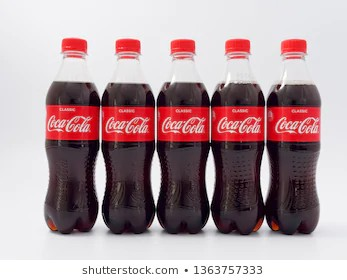coke-bottle-700ml: (42, 35, 102, 236), (266, 36, 325, 235), (211, 37, 268, 235), (157, 37, 212, 239), (101, 35, 157, 232)
